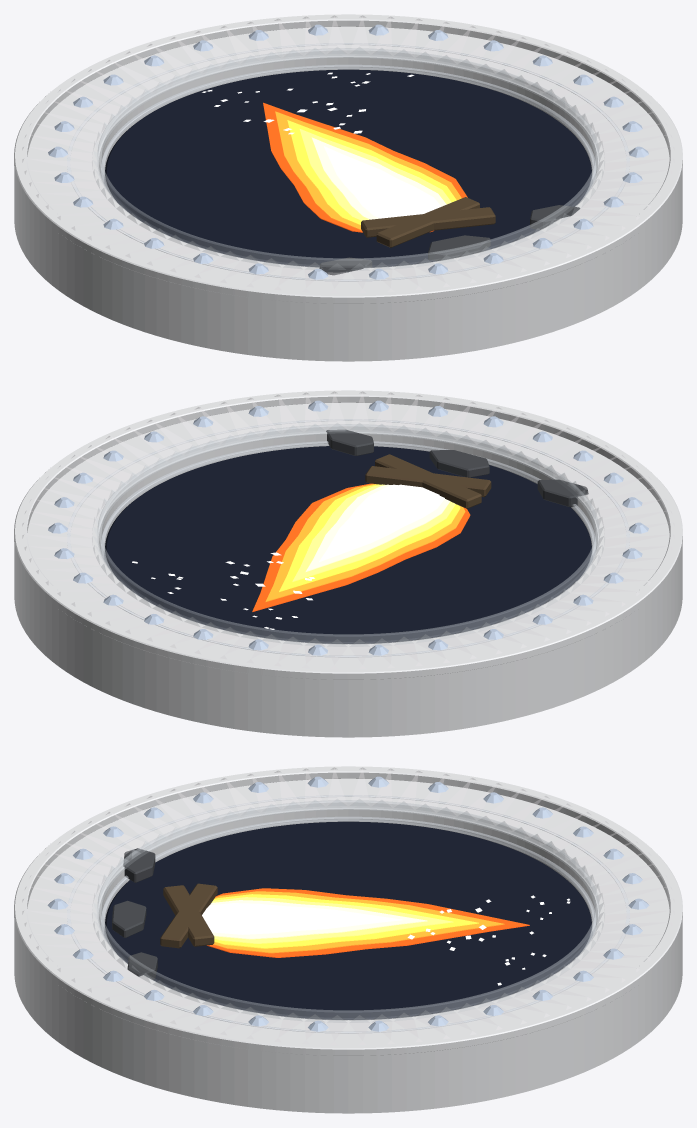
The model's file is streak_30.glb.
The picture shows the model from 3 angles, top to bottom: view 1: azimuth 30°, elevation 25°; view 2: azimuth 150°, elevation 25°; view 3: azimuth 270°, elevation 25°; orthographic projection.
Visible parts, largest first — view 1: SR_Ring, SR_Field, SR_OuterLip, SR_Crown, SR_InnerLip, SR_PipsLit, SR_CrownIn, SR_RingLine, SR_FieldRim, SR_Logs, SR_Flame0, SR_Flame6 (+8 smaller); view 2: SR_Ring, SR_Field, SR_OuterLip, SR_Crown, SR_InnerLip, SR_PipsLit, SR_CrownIn, SR_RingLine, SR_Logs, SR_Flame0, SR_Flame6, SR_Flame1 (+8 smaller); view 3: SR_Ring, SR_Field, SR_OuterLip, SR_Crown, SR_InnerLip, SR_PipsLit, SR_CrownIn, SR_RingLine, SR_FieldRim, SR_Flame0, SR_Flame6, SR_Logs (+8 smaller).
Boxes of the visible parts, x1,y1,x2,y2 form: SR_Ring: [14, 26, 682, 361]; SR_Field: [104, 69, 592, 267]; SR_OuterLip: [14, 14, 682, 303]; SR_Crown: [22, 15, 674, 292]; SR_InnerLip: [98, 48, 598, 267]; SR_PipsLit: [48, 24, 648, 279]; SR_CrownIn: [92, 47, 604, 270]; SR_RingLine: [67, 43, 629, 281]; SR_FieldRim: [101, 64, 595, 198]; SR_Logs: [361, 197, 495, 247]; SR_Flame0: [263, 102, 467, 232]; SR_Flame6: [336, 155, 436, 217]; SR_Ring: [14, 402, 682, 737]; SR_Field: [104, 446, 592, 643]; SR_OuterLip: [14, 390, 682, 679]; SR_Crown: [22, 391, 674, 668]; SR_InnerLip: [98, 424, 598, 643]; SR_PipsLit: [48, 400, 648, 655]; SR_CrownIn: [92, 423, 604, 646]; SR_RingLine: [67, 419, 629, 657]; SR_Logs: [365, 454, 491, 508]; SR_Flame0: [252, 483, 470, 611]; SR_Flame6: [332, 484, 439, 551]; SR_Flame1: [265, 484, 465, 601]; SR_Ring: [14, 778, 682, 1113]; SR_Field: [104, 821, 592, 1019]; SR_OuterLip: [14, 766, 682, 1055]; SR_Crown: [22, 767, 674, 1044]; SR_InnerLip: [98, 800, 598, 1019]; SR_PipsLit: [47, 776, 649, 1031]; SR_CrownIn: [92, 799, 604, 1022]; SR_RingLine: [67, 795, 629, 1033]; SR_FieldRim: [101, 816, 595, 950]; SR_Flame0: [207, 888, 529, 957]; SR_Flame6: [202, 906, 376, 930]; SR_Logs: [160, 883, 217, 948].
Size of the model in its own units: 0.0394 by 0.00469 by 0.0394.
